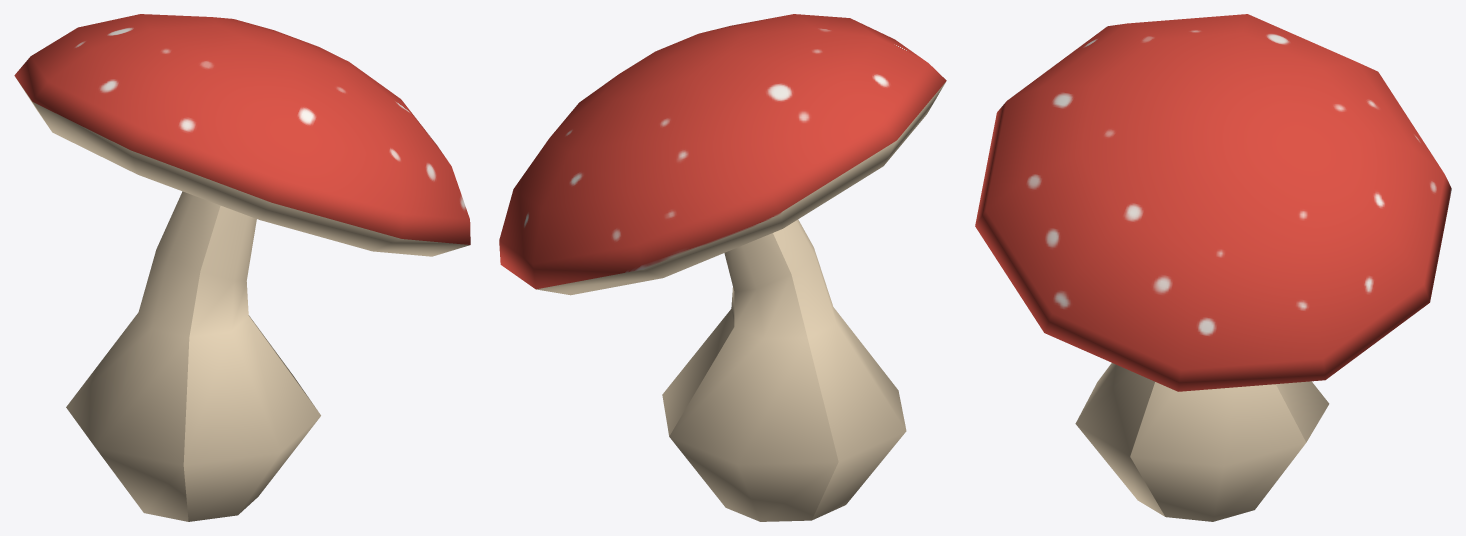
Rendered from mushroom_3.fbx.
The picture shows the model from 3 angles, left to right: view 1: azimuth 30°, elevation 25°; view 2: azimuth 150°, elevation 25°; view 3: azimuth 270°, elevation 25°; orthographic projection.
Parts seen in each view (by area): view 1: mushroom_3; view 2: mushroom_3; view 3: mushroom_3.
Boxes of the visible parts, x1,y1,x2,y2 form: mushroom_3: [14, 14, 470, 521]; mushroom_3: [499, 14, 946, 521]; mushroom_3: [975, 14, 1451, 521].
Size of the model in its own units: 158 by 178 by 170.
1 material, 1 textured.
